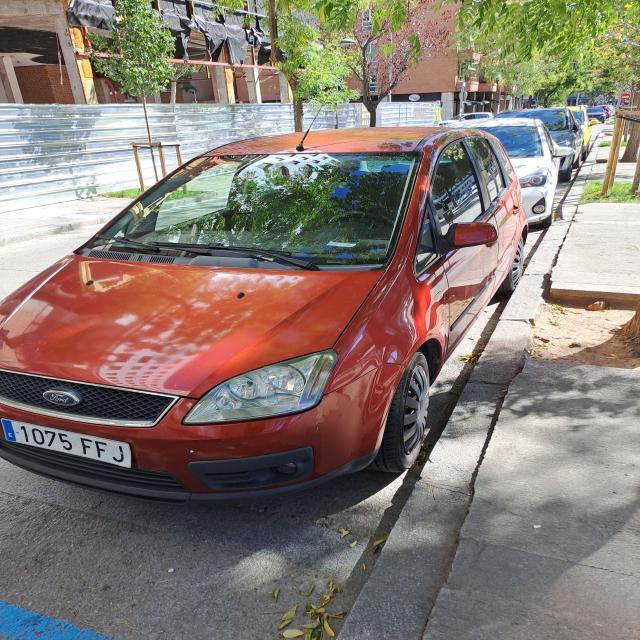license_plate-34Td: (2, 419, 131, 468)
